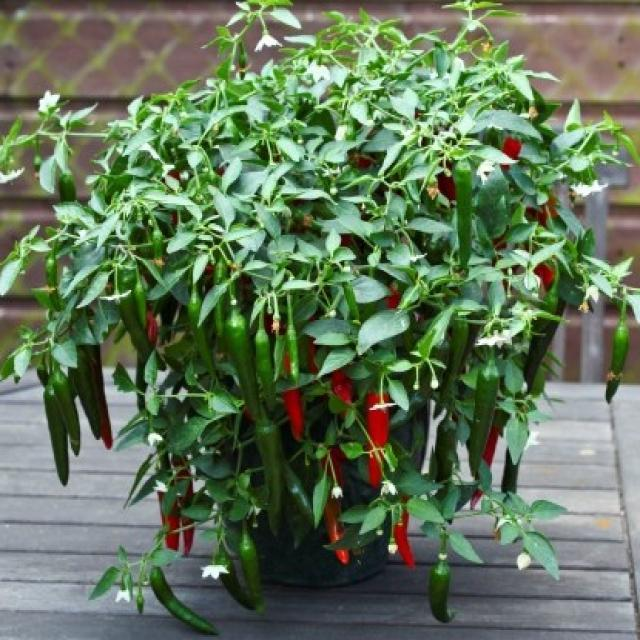chilli: (0, 2, 640, 637)
